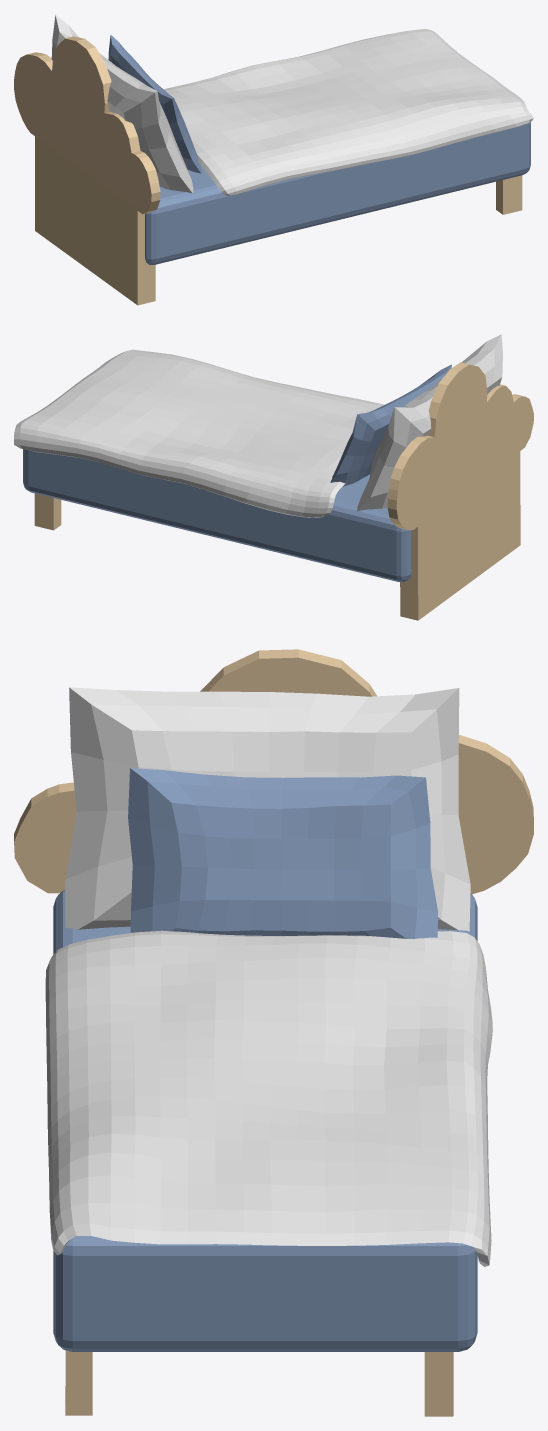
File: Furn6_bed_color1_joined.fbx
The picture shows the model from 3 angles, top to bottom: view 1: azimuth 30°, elevation 25°; view 2: azimuth 150°, elevation 25°; view 3: azimuth 270°, elevation 25°; orthographic projection. The views are drawn at different scales.
Parts seen in each view (by area): view 1: кроватка.001; view 2: кроватка.001; view 3: кроватка.001.
Boxes of the visible parts, x1=… form: кроватка.001: x1=14, y1=14, x2=533, y2=305; кроватка.001: x1=14, y1=334, x2=533, y2=620; кроватка.001: x1=14, y1=649, x2=533, y2=1416.
Bounding box in the file's own units: 355 × 186 × 211.
